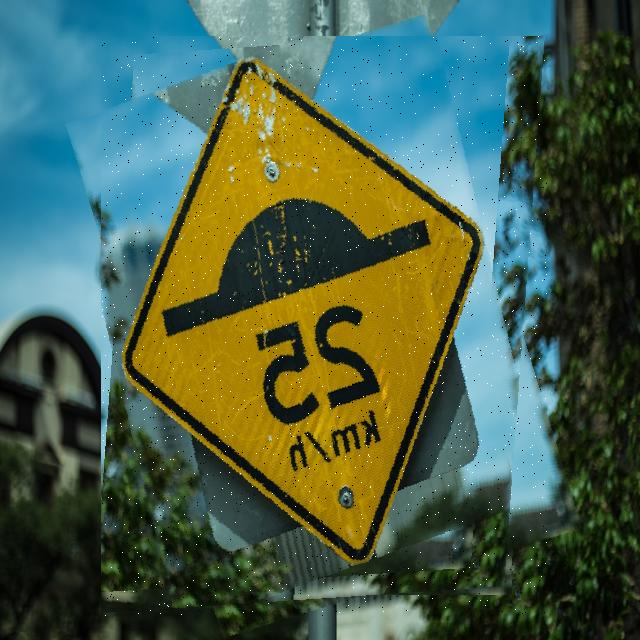hump: (101, 36, 547, 616)
